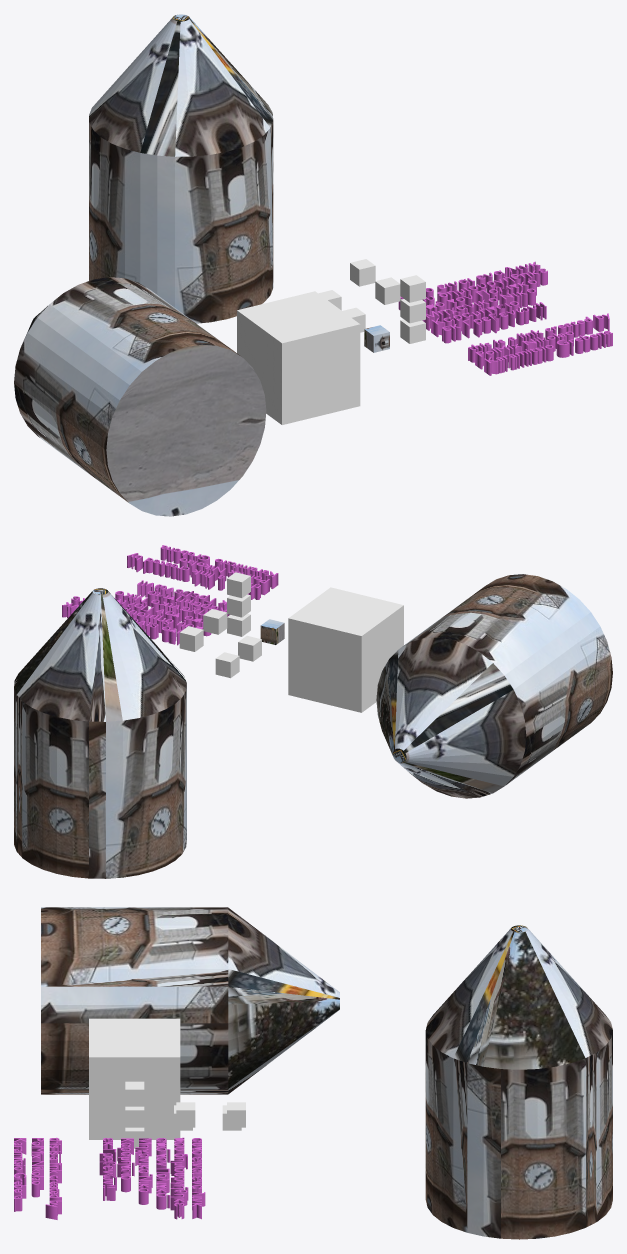
Rendered from asset.glb.
3 renders of one model, top to bottom at view 1: azimuth 30°, elevation 25°; view 2: azimuth 150°, elevation 25°; view 3: azimuth 270°, elevation 25°, orthographic. The views are drawn at different scales.
Parts seen in each view (by area): view 1: Cylinder.001, Cylinder, Cube.004, Text; view 2: Cylinder.001, Cylinder, Cube.004, Text, Cube.006, Cube.008, Cube.007, Cube.003, Cube.002, Cube.005, Cube.001, Cube; view 3: Cylinder.001, Cylinder, Cube.004, Text, Cube.007, Cube.002, Cube.008.
Boxes of the visible parts, box(x1,y1,x2,y2) form: Cylinder.001: box(89, 14, 273, 323); Cylinder: box(14, 277, 266, 516); Cube.004: box(237, 291, 360, 424); Text: box(398, 261, 612, 375); Cylinder.001: box(14, 588, 186, 878); Cylinder: box(376, 574, 612, 798); Cube.004: box(288, 587, 403, 712); Text: box(62, 545, 278, 645); Cube.006: box(215, 652, 239, 678); Cube.008: box(179, 626, 203, 651); Cube.007: box(203, 609, 227, 634); Cube.003: box(260, 619, 284, 644); Cube.002: box(227, 572, 250, 597); Cube.005: box(238, 635, 261, 661); Cube.001: box(227, 594, 250, 617); Cube: box(227, 614, 250, 636); Cylinder.001: box(425, 925, 612, 1239); Cylinder: box(41, 907, 339, 1094); Cube.004: box(89, 1018, 180, 1139); Text: box(14, 1137, 205, 1219); Cube.007: box(176, 1102, 195, 1127); Cube.002: box(125, 1081, 144, 1106); Cube.008: box(227, 1102, 245, 1127).
Size of the model in its own units: 126 by 62.94 by 126.
Materials: 3 (1 with a texture image).
